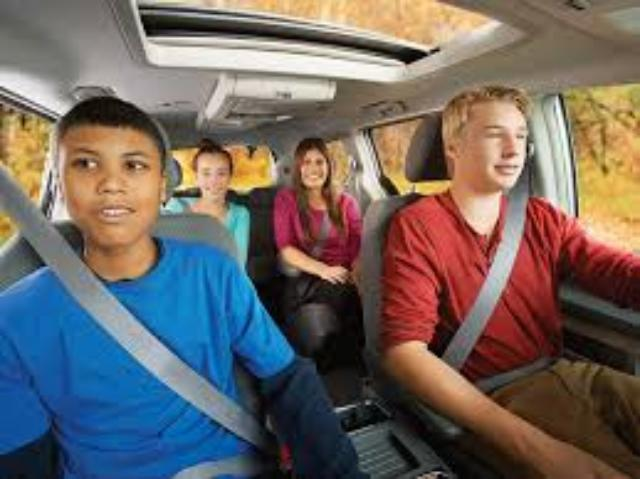seatbelt: (28, 261, 286, 468), (429, 200, 613, 404), (285, 190, 361, 290), (179, 194, 263, 270)
